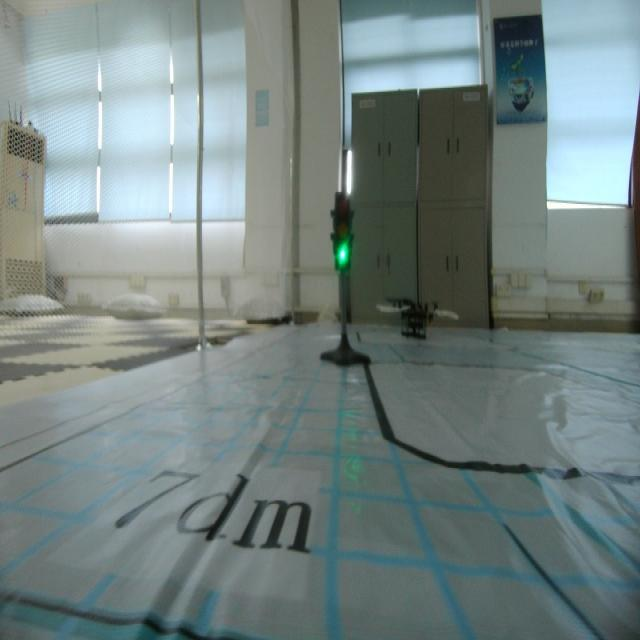green: (330, 191, 356, 280)
